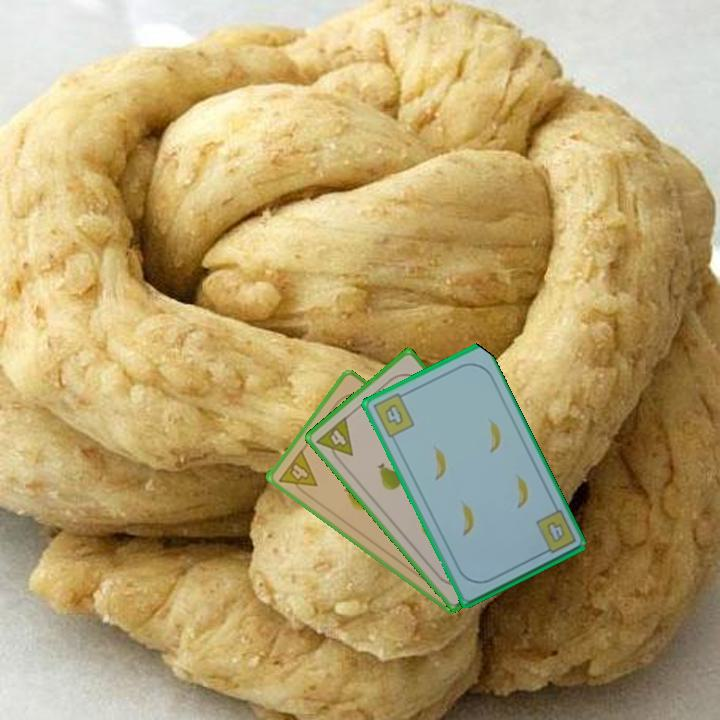4b: (369, 388, 417, 441), (532, 506, 579, 558)
4p: (275, 446, 320, 499), (312, 413, 356, 467)
